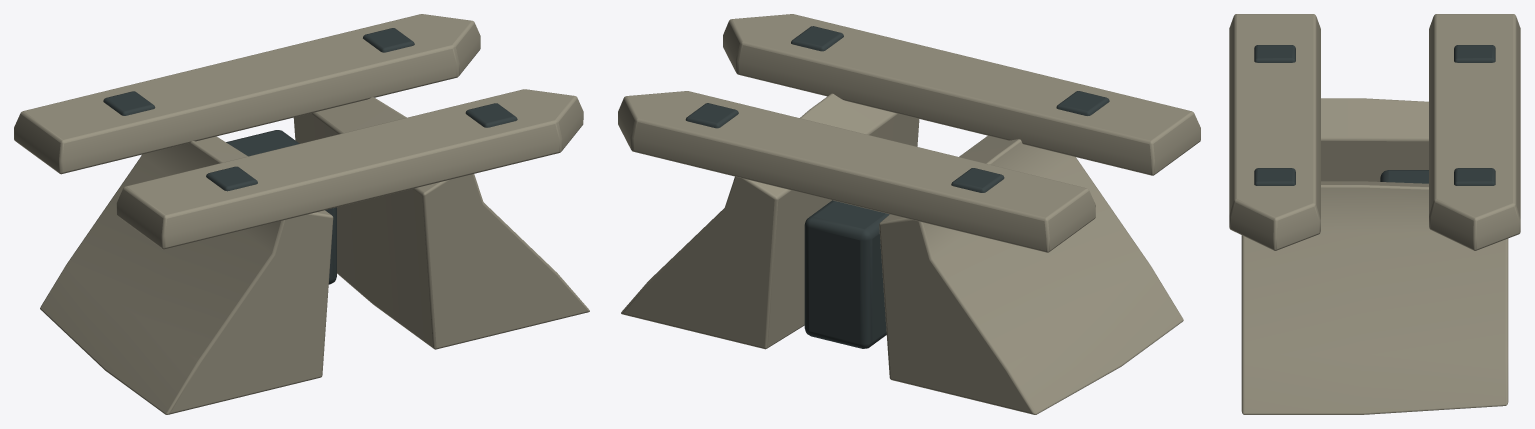
The model's file is service_plinth_lod2.glb.
3 views of the same model, side by side, from view 1: azimuth 30°, elevation 25°; view 2: azimuth 150°, elevation 25°; view 3: azimuth 270°, elevation 25° (orthographic). The views are drawn at different scales.
Parts seen in each view (by area): view 1: LOD2_ancient, LOD2_substrate; view 2: LOD2_ancient, LOD2_substrate; view 3: LOD2_ancient, LOD2_substrate.
Part boxes in pixels (box(x1,y1,x2,y2)): LOD2_ancient: box(14, 14, 589, 414); LOD2_substrate: box(103, 28, 517, 284); LOD2_ancient: box(618, 14, 1200, 414); LOD2_substrate: box(685, 26, 1109, 348); LOD2_ancient: box(1229, 14, 1520, 414); LOD2_substrate: box(1254, 45, 1495, 185).
Size of the model in its own units: 2.39 by 1.07 by 1.4.
